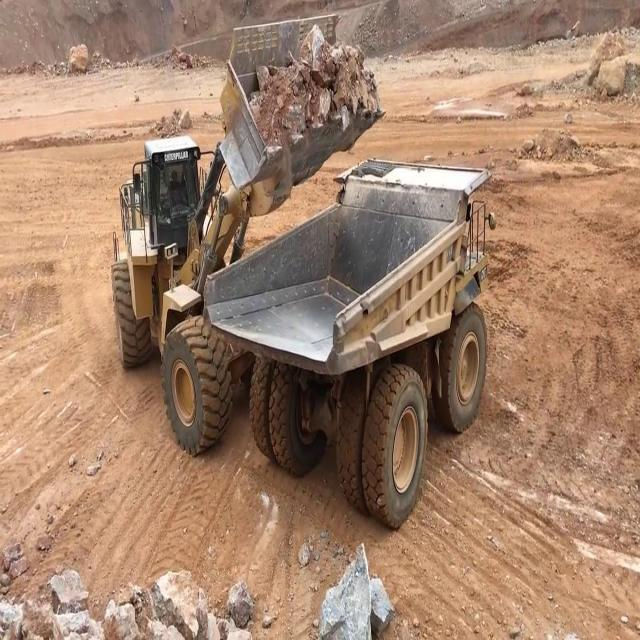Dump Truck: (203, 154, 497, 530)
Loader: (109, 12, 387, 378)
